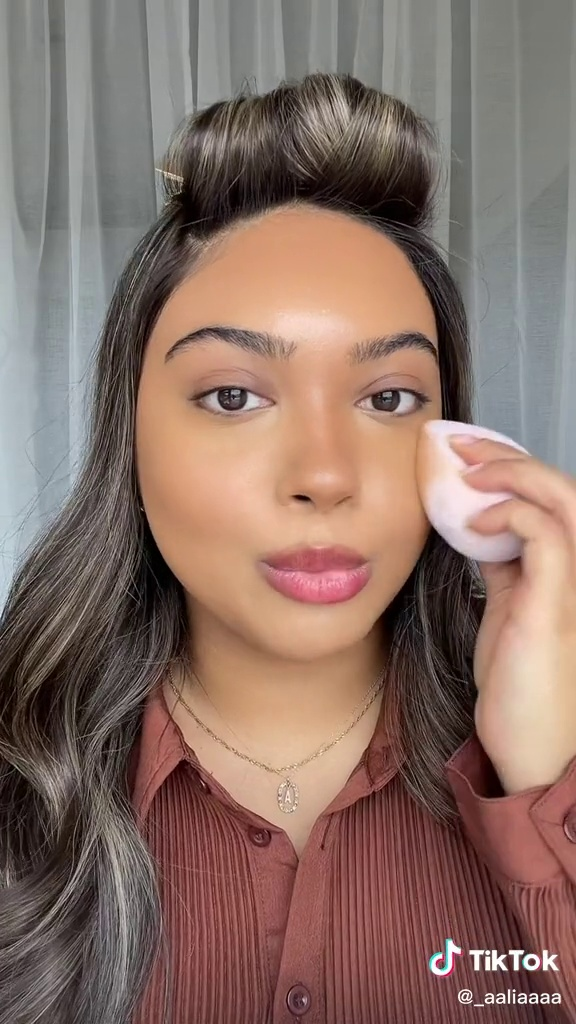train' :'yolo_data/train/images',: (407, 416, 570, 572)
